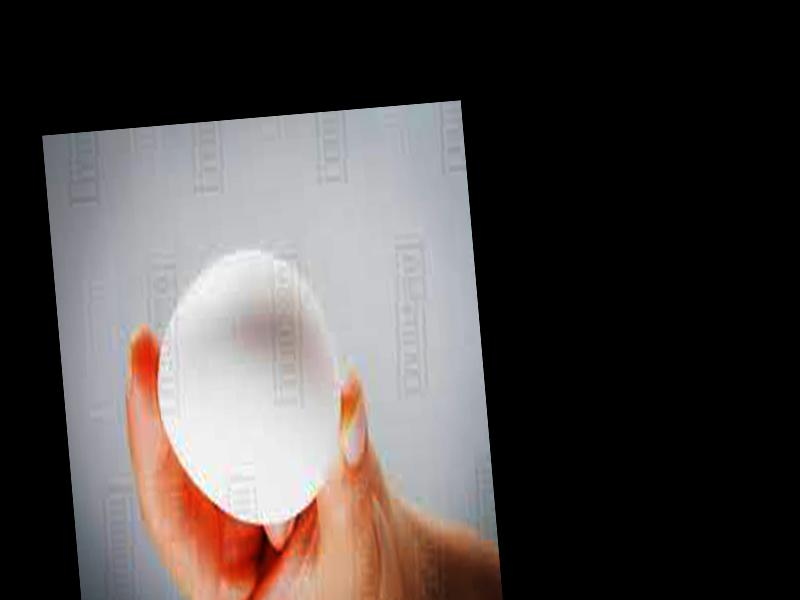Eggs: (145, 247, 349, 521)
